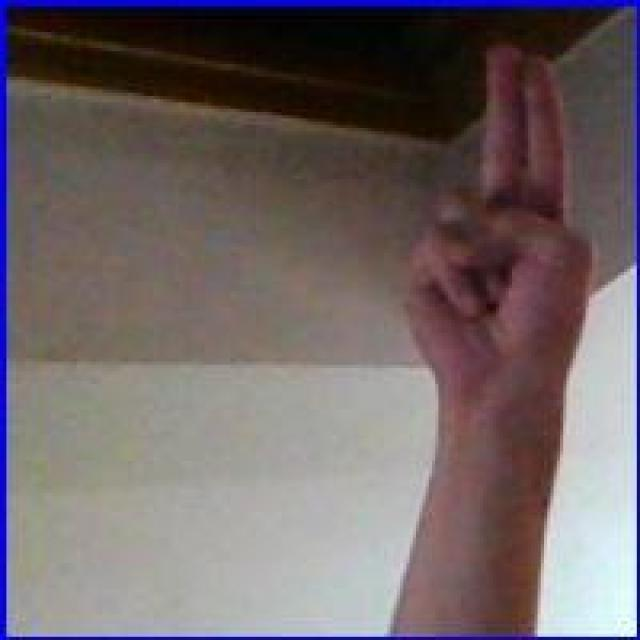U: (407, 29, 596, 422)
